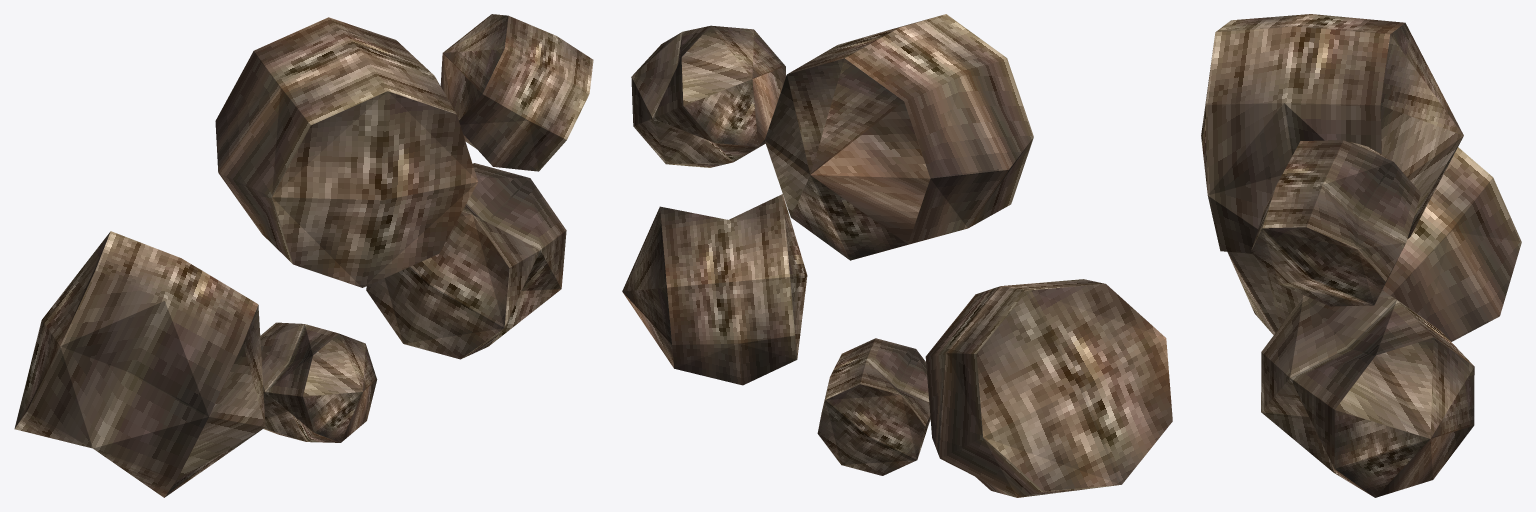
The picture shows the model from 3 angles, left to right: view 1: azimuth 30°, elevation 25°; view 2: azimuth 150°, elevation 25°; view 3: azimuth 270°, elevation 25°; orthographic projection. The views are drawn at different scales.
Parts seen in each view (by area): view 1: model_Object10; view 2: model_Object10; view 3: model_Object10.
Part boxes in pixels (x1=…): model_Object10: x1=14, y1=14, x2=593, y2=497; model_Object10: x1=622, y1=14, x2=1172, y2=497; model_Object10: x1=1201, y1=14, x2=1521, y2=497.
Bounding box in the file's own units: 2.17 × 1.55 × 1.02.
1 material, 1 textured.
